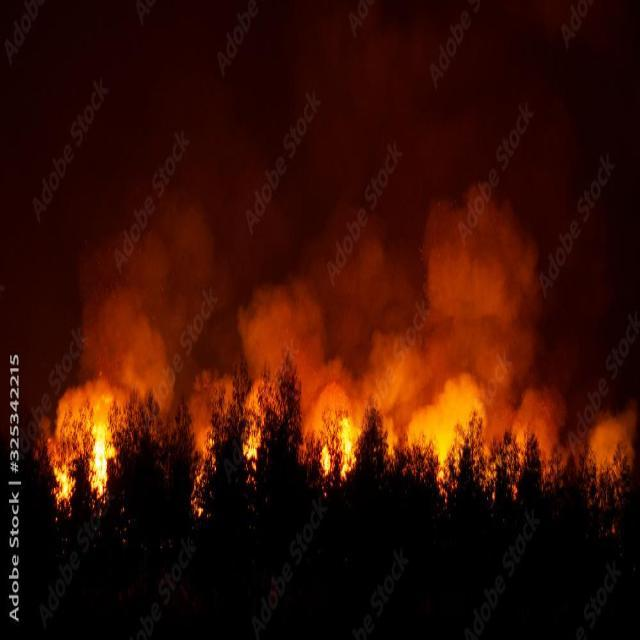Fire: (186, 382, 274, 482), (406, 377, 482, 485), (44, 388, 110, 490), (306, 383, 368, 468)
Smoke: (78, 192, 210, 350), (418, 188, 547, 338), (232, 260, 414, 358)
